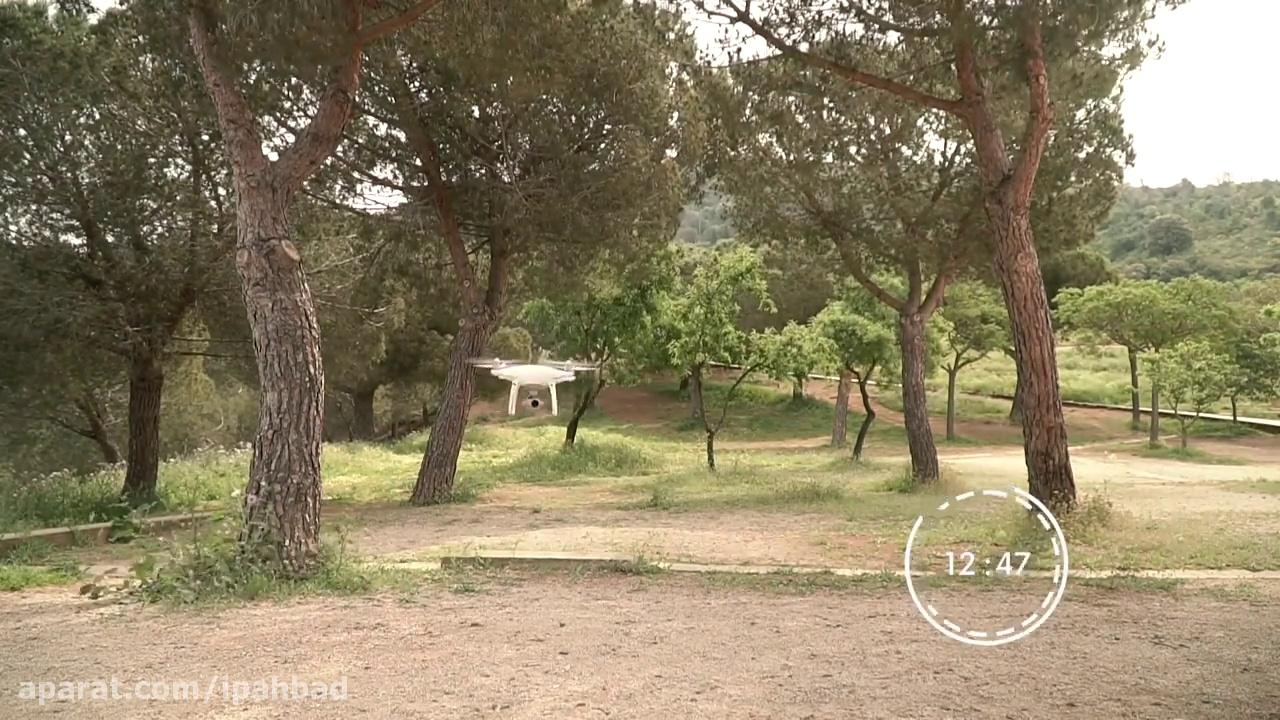drone: (466, 352, 603, 417)
